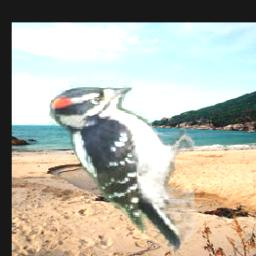Woodpecker: (48, 80, 193, 252)
